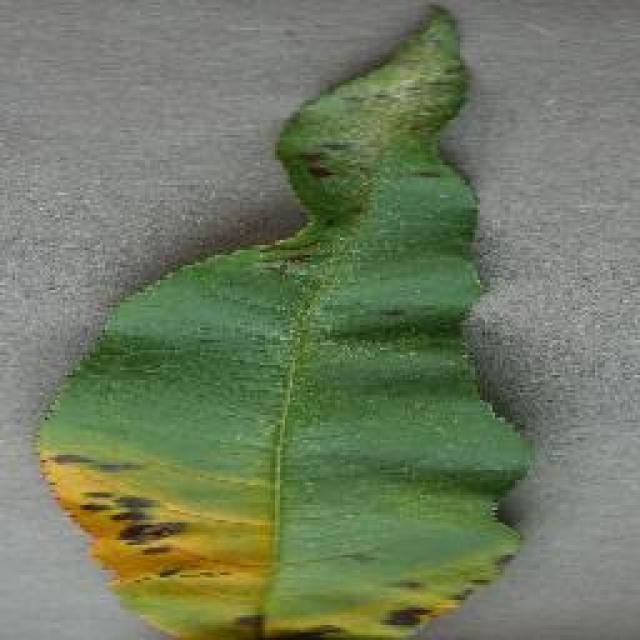Peach_Bacterial_Spot: (60, 382, 515, 640)
